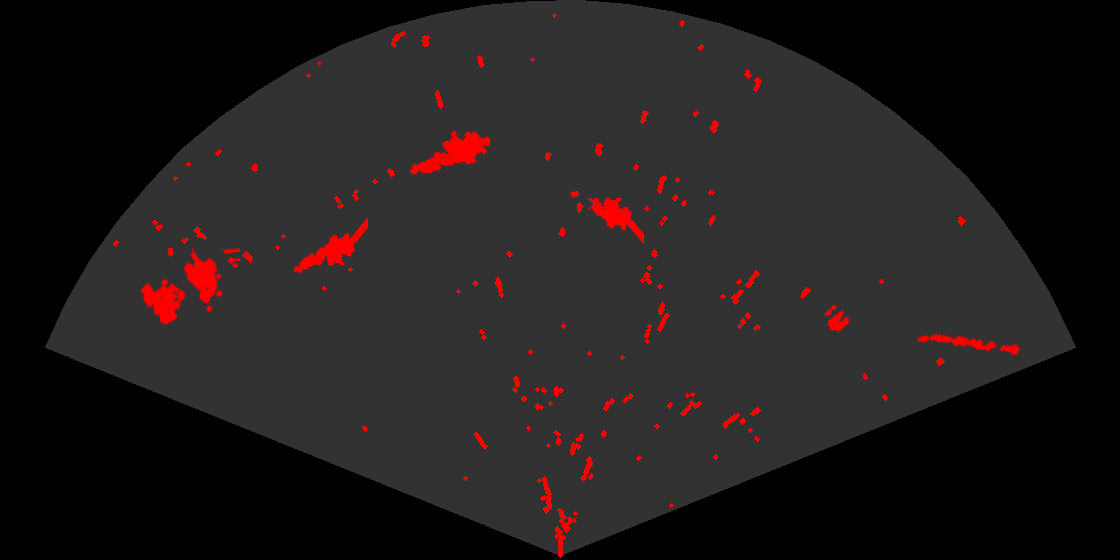ball: (824, 303, 851, 333)
cage: (139, 248, 240, 326)
chain: (916, 332, 1022, 357)
frogman: (292, 216, 368, 275), (569, 189, 644, 246), (408, 129, 490, 176)
